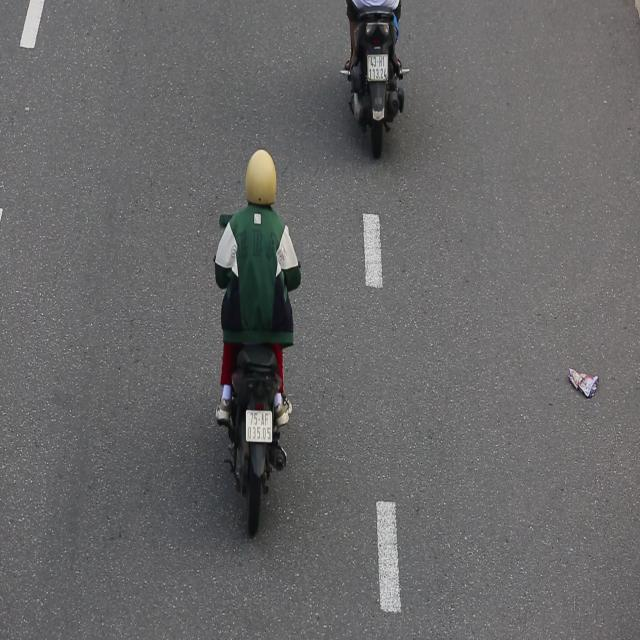motorbike: (215, 140, 308, 541)
